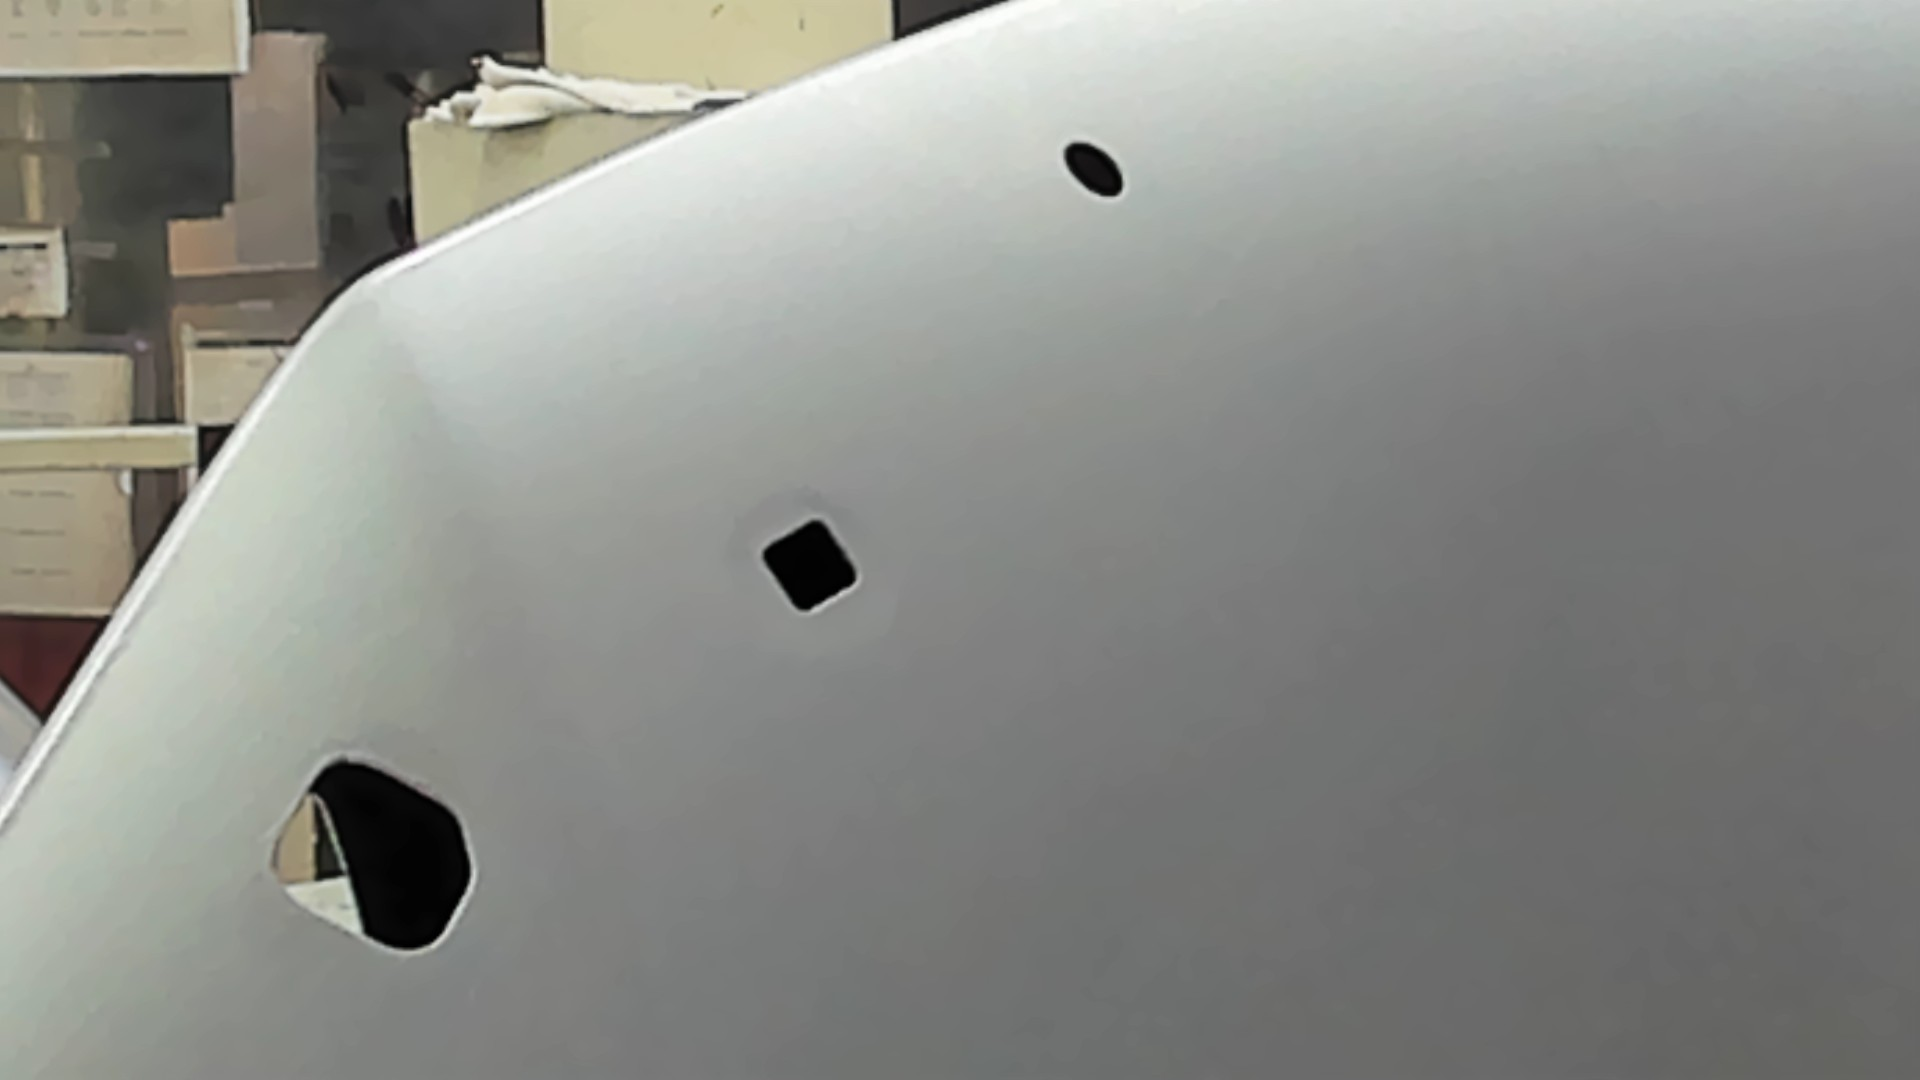chico: (1064, 137, 1127, 204)
grande: (268, 746, 475, 965)
mediano: (756, 512, 864, 617)
